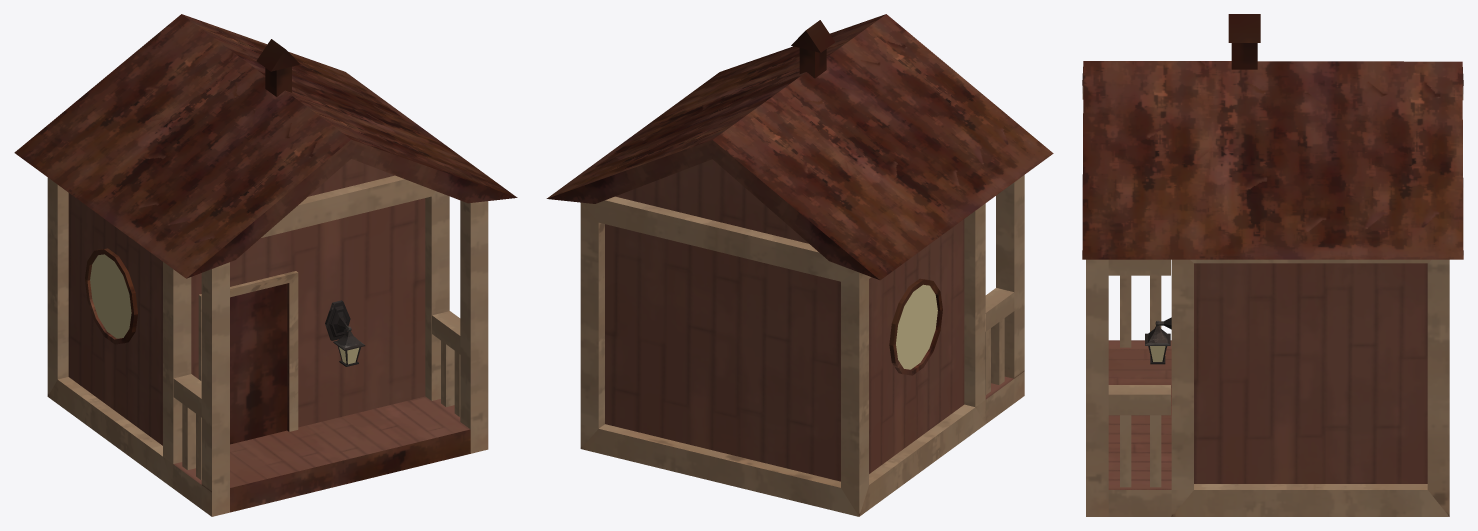
Rendered from Huberts_House.fbx.
The picture shows the model from 3 angles, left to right: view 1: azimuth 30°, elevation 25°; view 2: azimuth 150°, elevation 25°; view 3: azimuth 270°, elevation 25°; orthographic projection. The views are drawn at different scales.
Parts seen in each view (by area): view 1: Huberts_Home; view 2: Huberts_Home; view 3: Huberts_Home.
Part boxes in pixels (box(x1,y1,x2,y2)): Huberts_Home: box(14, 14, 517, 516); Huberts_Home: box(546, 14, 1053, 516); Huberts_Home: box(1082, 14, 1463, 516).
Size of the model in its own units: 604 by 673 by 543.
